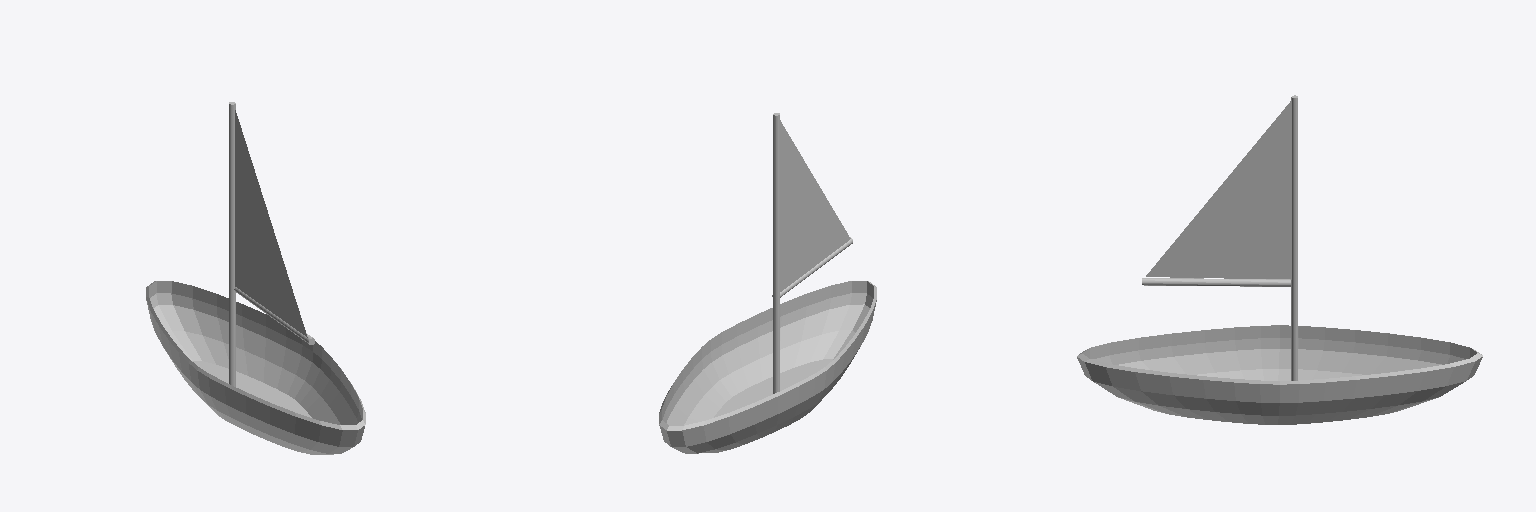
File: boat.obj
3 renders of one model, left to right at view 1: azimuth 30°, elevation 25°; view 2: azimuth 150°, elevation 25°; view 3: azimuth 270°, elevation 25°, orthographic.
Parts seen in each view (by area): view 1: Circle; view 2: Circle; view 3: Circle.
Boxes of the visible parts, <box> form: Circle: <box>146,102,365,454</box>; Circle: <box>659,113,876,453</box>; Circle: <box>1077,95,1482,424</box>.
Size of the model in its own units: 2 by 4.92 by 6.